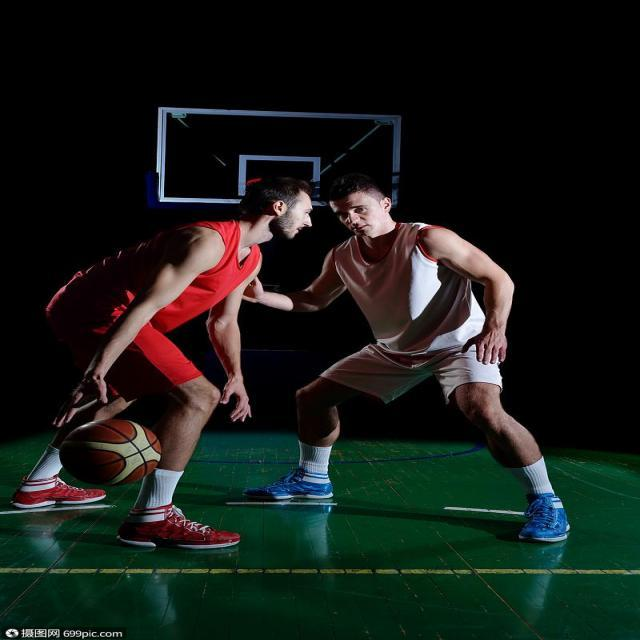rim: (62, 418, 164, 488)
